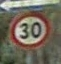limite 30: (8, 11, 51, 49)
